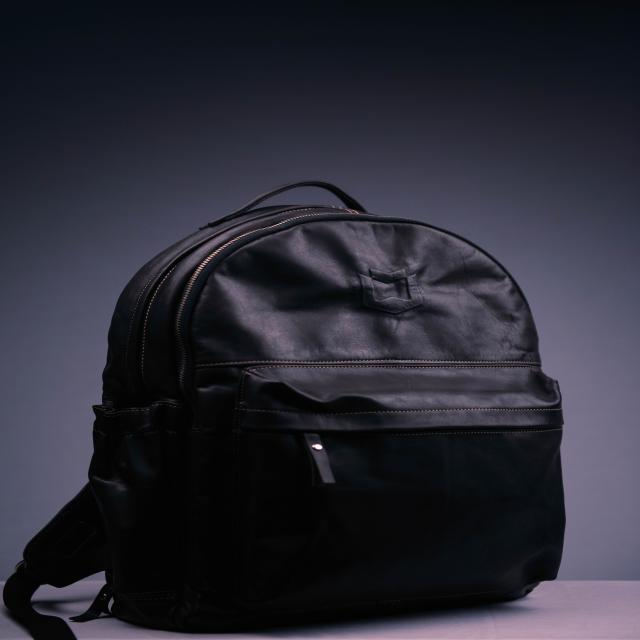backpack: (29, 183, 567, 640)
